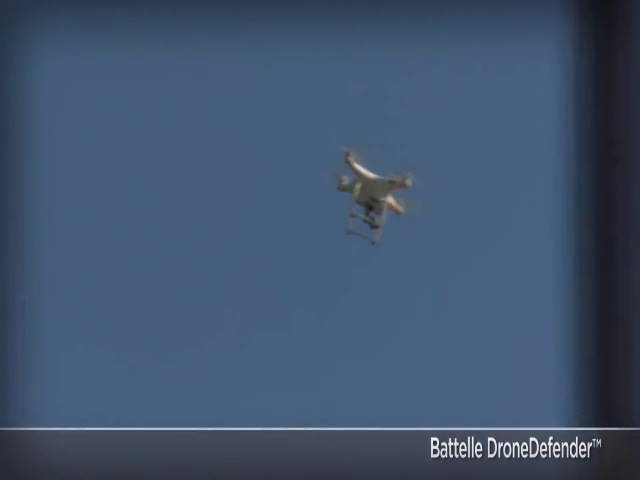drone: (322, 141, 428, 249)
